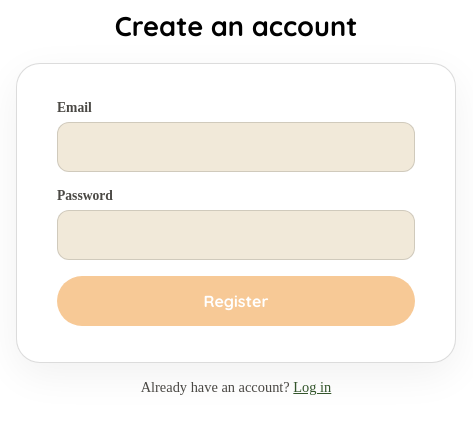
Test: Register › shows a clear inline error for a too-short password (Story 3)
This screenshot has width=473, height=444.
Type "addie@example.com" into the field labelled "Email" at (236, 147), box [57,122,415,172]
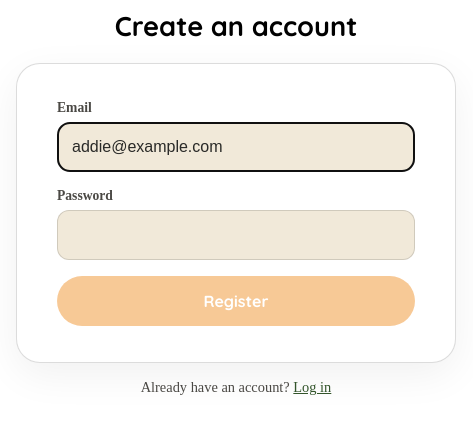
Type "short" into the password field labelled "Password" at (236, 235), box [57,210,415,260]
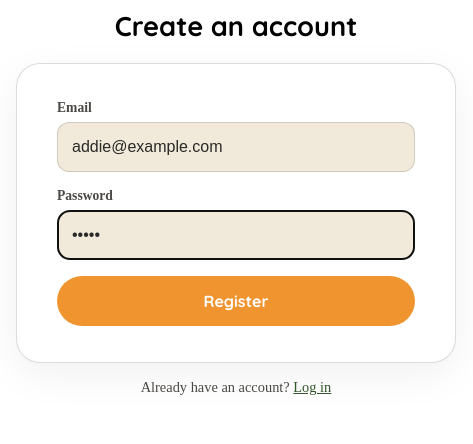
Click the button "Register" at (236, 301), box [57,276,415,326]
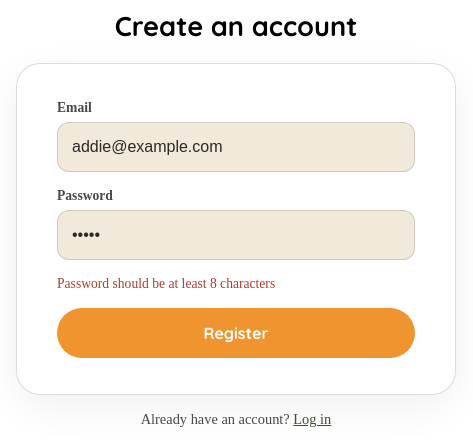
Check: the text "Password should be at least 8 characters" is shown, box [57,276,275,291]
